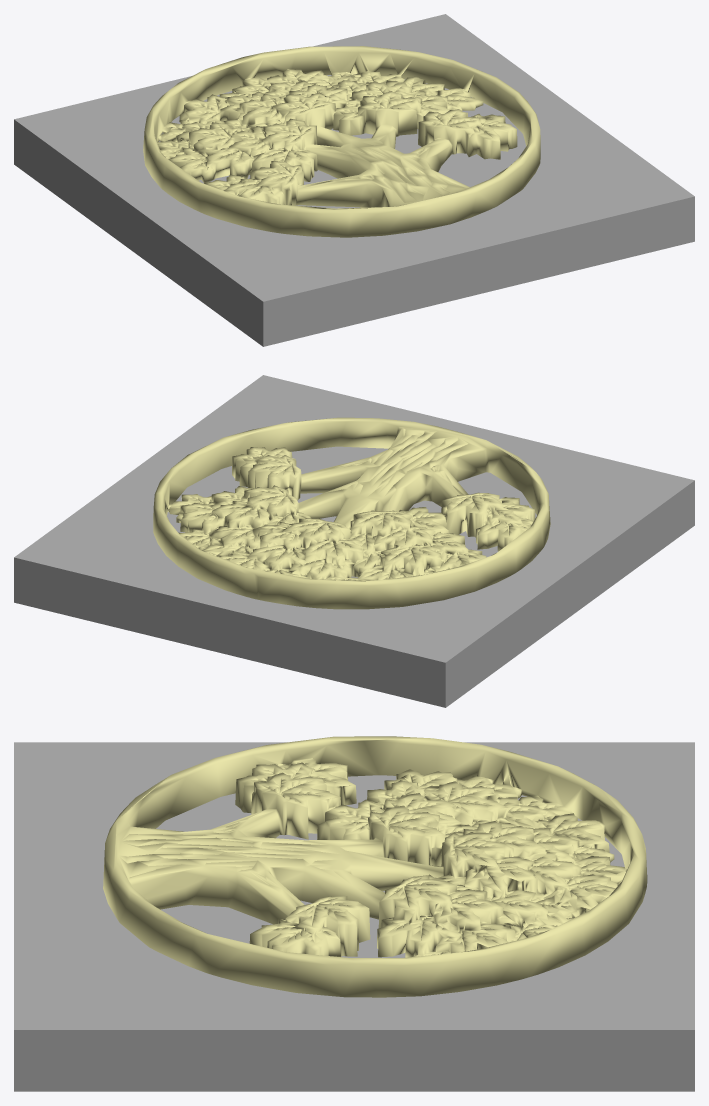
The model's file is TreeGlyph.fbx.
The picture shows the model from 3 angles, top to bottom: view 1: azimuth 30°, elevation 25°; view 2: azimuth 150°, elevation 25°; view 3: azimuth 270°, elevation 25°; orthographic projection. The views are drawn at different scales.
Visible parts, largest first — view 1: Glyph; view 2: Glyph; view 3: Glyph.
Boxes of the visible parts, x1=… form: Glyph: x1=14, y1=14, x2=694, y2=346; Glyph: x1=14, y1=375, x2=694, y2=707; Glyph: x1=14, y1=736, x2=694, y2=1091.
Size of the model in its own units: 100 by 15.77 by 100.
